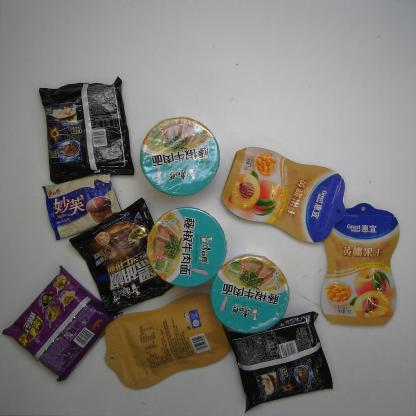Dessert: (42, 172, 124, 240)
Dried Fruit: (103, 292, 231, 390), (220, 147, 348, 244), (320, 201, 401, 328)
Instant Noodles: (2, 264, 122, 384), (69, 196, 176, 316), (220, 310, 334, 415), (37, 77, 136, 185), (146, 207, 226, 288), (209, 255, 288, 334), (140, 118, 218, 196)
